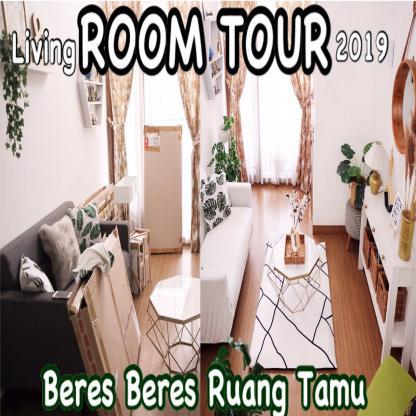bantal: (45, 225, 79, 283), (201, 175, 232, 225), (71, 207, 102, 243)
lampu: (365, 142, 388, 192)
meja: (145, 271, 203, 383)
sova: (202, 167, 254, 337)
